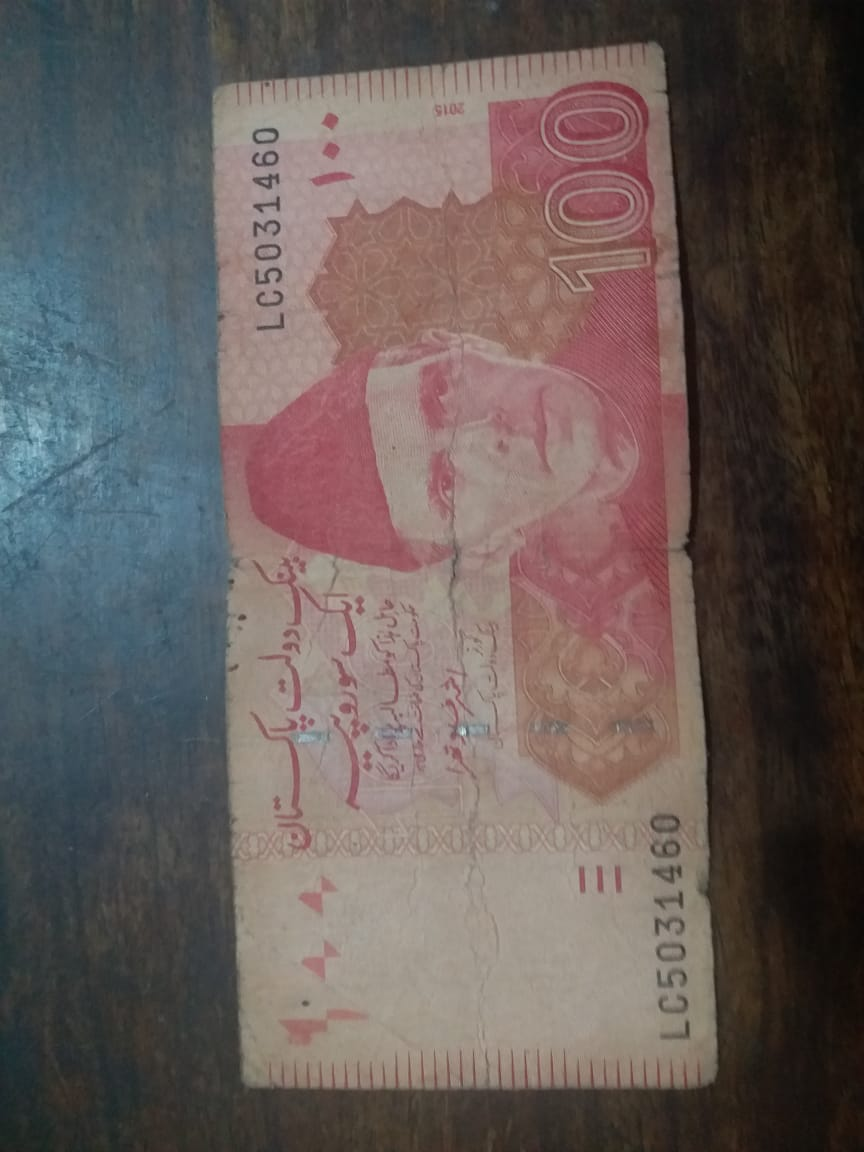100 rupee: (91, 32, 731, 1098)
